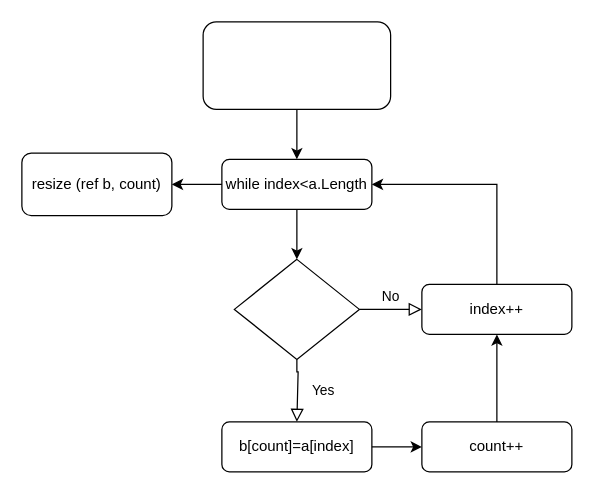
The diagram is 594 pixels wide and 494 high, and some of its shapes have lost their labels. Each missing label, with the box of its shape:
a[] (первоначальный b[] index = 0 count = 0: (202, 21, 391, 109)
a[index]%2==0?: (233, 258, 359, 359)
